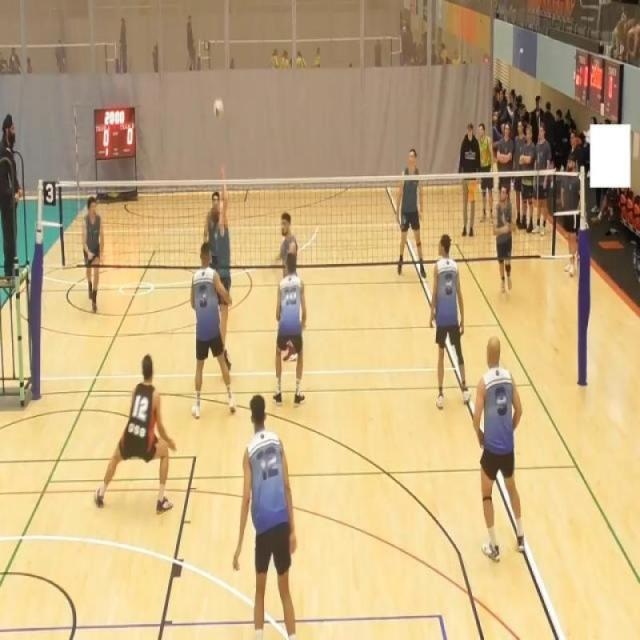volleyball: (212, 96, 225, 120)
